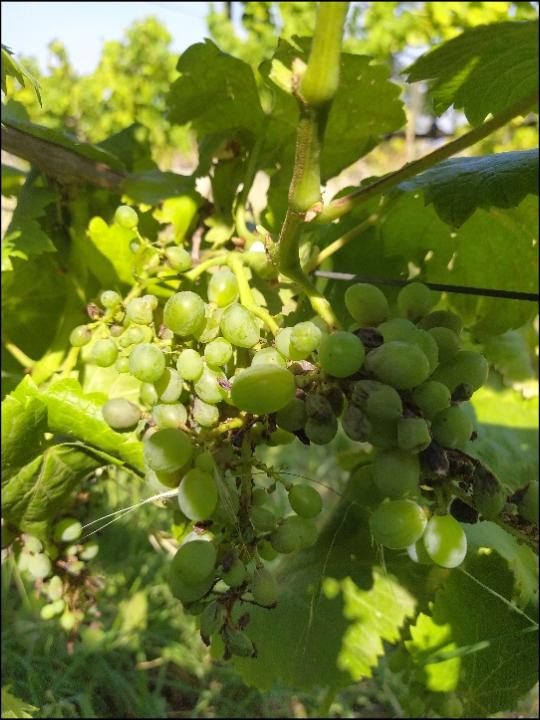grape: (69, 204, 495, 680)
